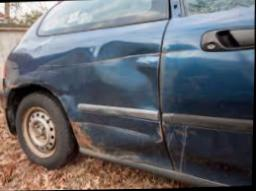Door: (52, 88, 253, 186), (160, 29, 253, 119)
Fender: (10, 37, 171, 169)
